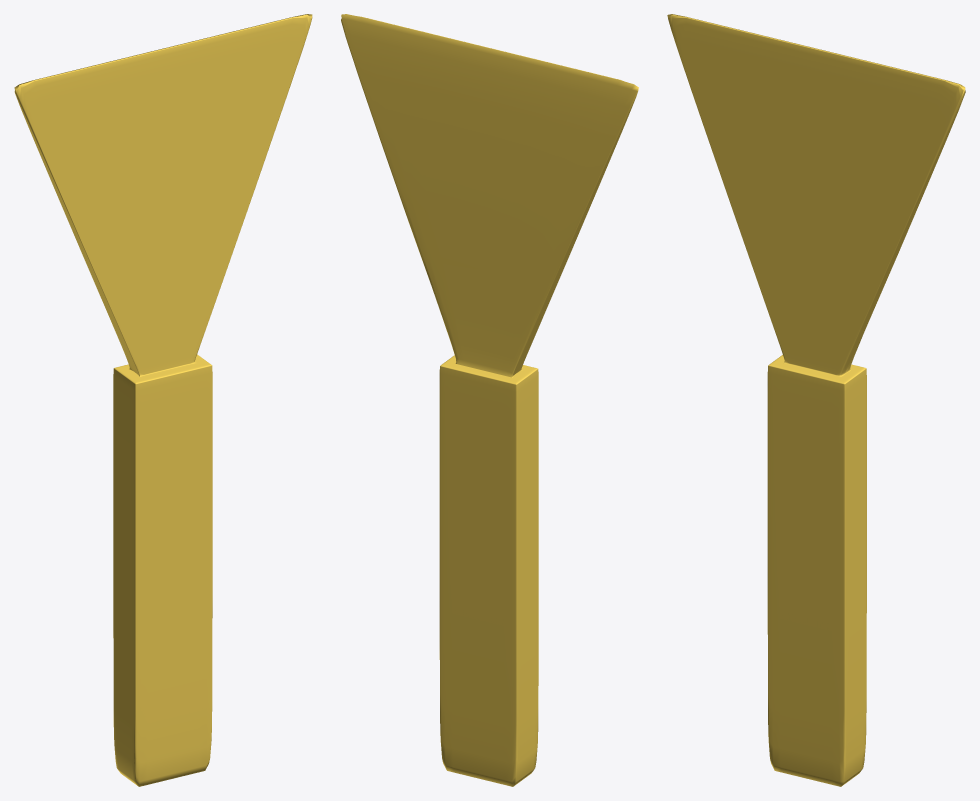
The model's file is SpatulaGold.fbx.
The picture shows the model from 3 angles, left to right: view 1: azimuth 30°, elevation 25°; view 2: azimuth 150°, elevation 25°; view 3: azimuth 330°, elevation 25°; orthographic projection.
Parts seen in each view (by area): view 1: pasted__pasted__HighPoly2; view 2: pasted__pasted__HighPoly2; view 3: pasted__pasted__HighPoly2.
Boxes of the visible parts, x1,y1,x2,y2 form: pasted__pasted__HighPoly2: [14, 14, 312, 786]; pasted__pasted__HighPoly2: [341, 14, 638, 786]; pasted__pasted__HighPoly2: [667, 14, 965, 786].
Size of the model in its own units: 7.69 by 17.84 by 1.
